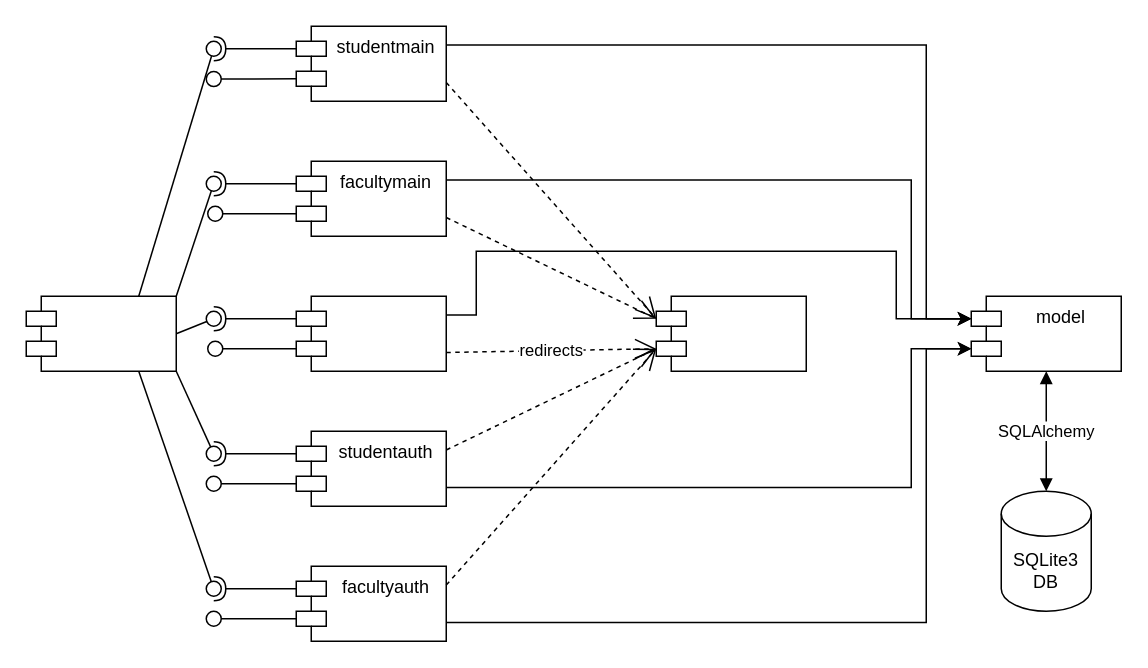
Some shapes in this 1148 by 668 pixel diagram are drawn without their labels. Each missing label, with the box of its shape:
client: (25, 295, 176, 371)
error handlers: (655, 295, 806, 371)
models: (295, 295, 446, 371)
